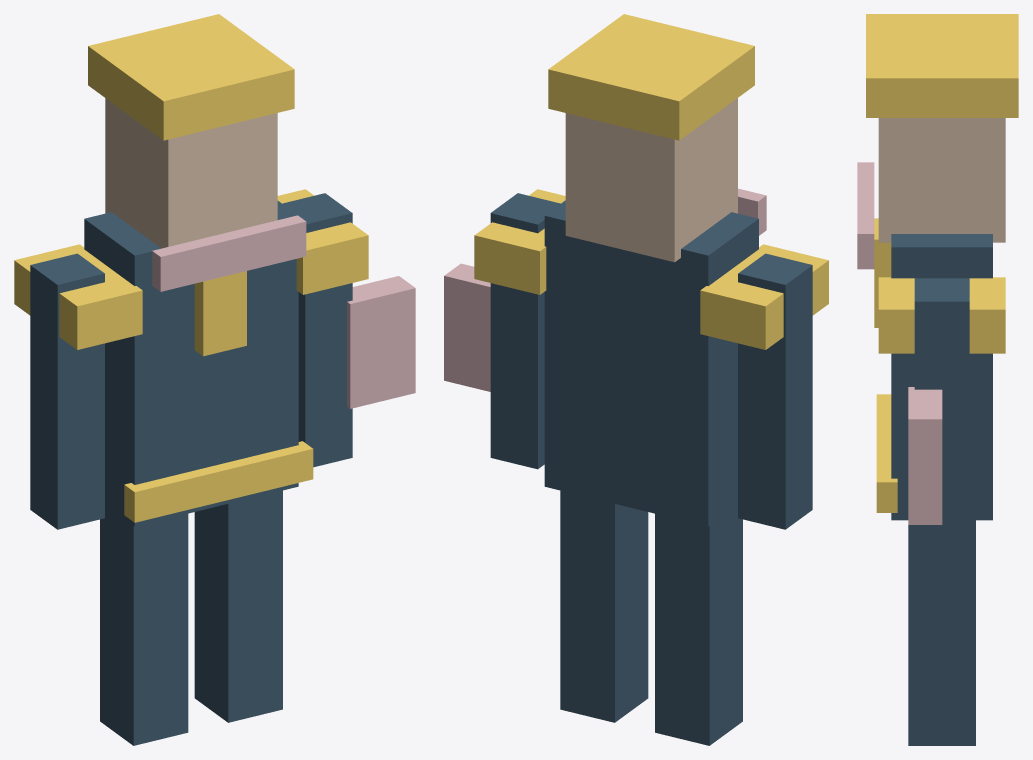
Rendered from 12_keir_wayfare_custodian_of_bazaar.glb.
3 renders of one model, left to right at view 1: azimuth 30°, elevation 25°; view 2: azimuth 150°, elevation 25°; view 3: azimuth 270°, elevation 25°, orthographic.
Visible parts, largest first — view 1: Keir Wayfare, Custodian of Bazaar; view 2: Keir Wayfare, Custodian of Bazaar; view 3: Keir Wayfare, Custodian of Bazaar.
Boxes of the visible parts, box(x1,y1,x2,y2) form: Keir Wayfare, Custodian of Bazaar: box(14, 14, 415, 745); Keir Wayfare, Custodian of Bazaar: box(444, 14, 828, 745); Keir Wayfare, Custodian of Bazaar: box(857, 14, 1018, 745).
Size of the model in its own units: 0.9376 by 1.66 by 0.3654.
